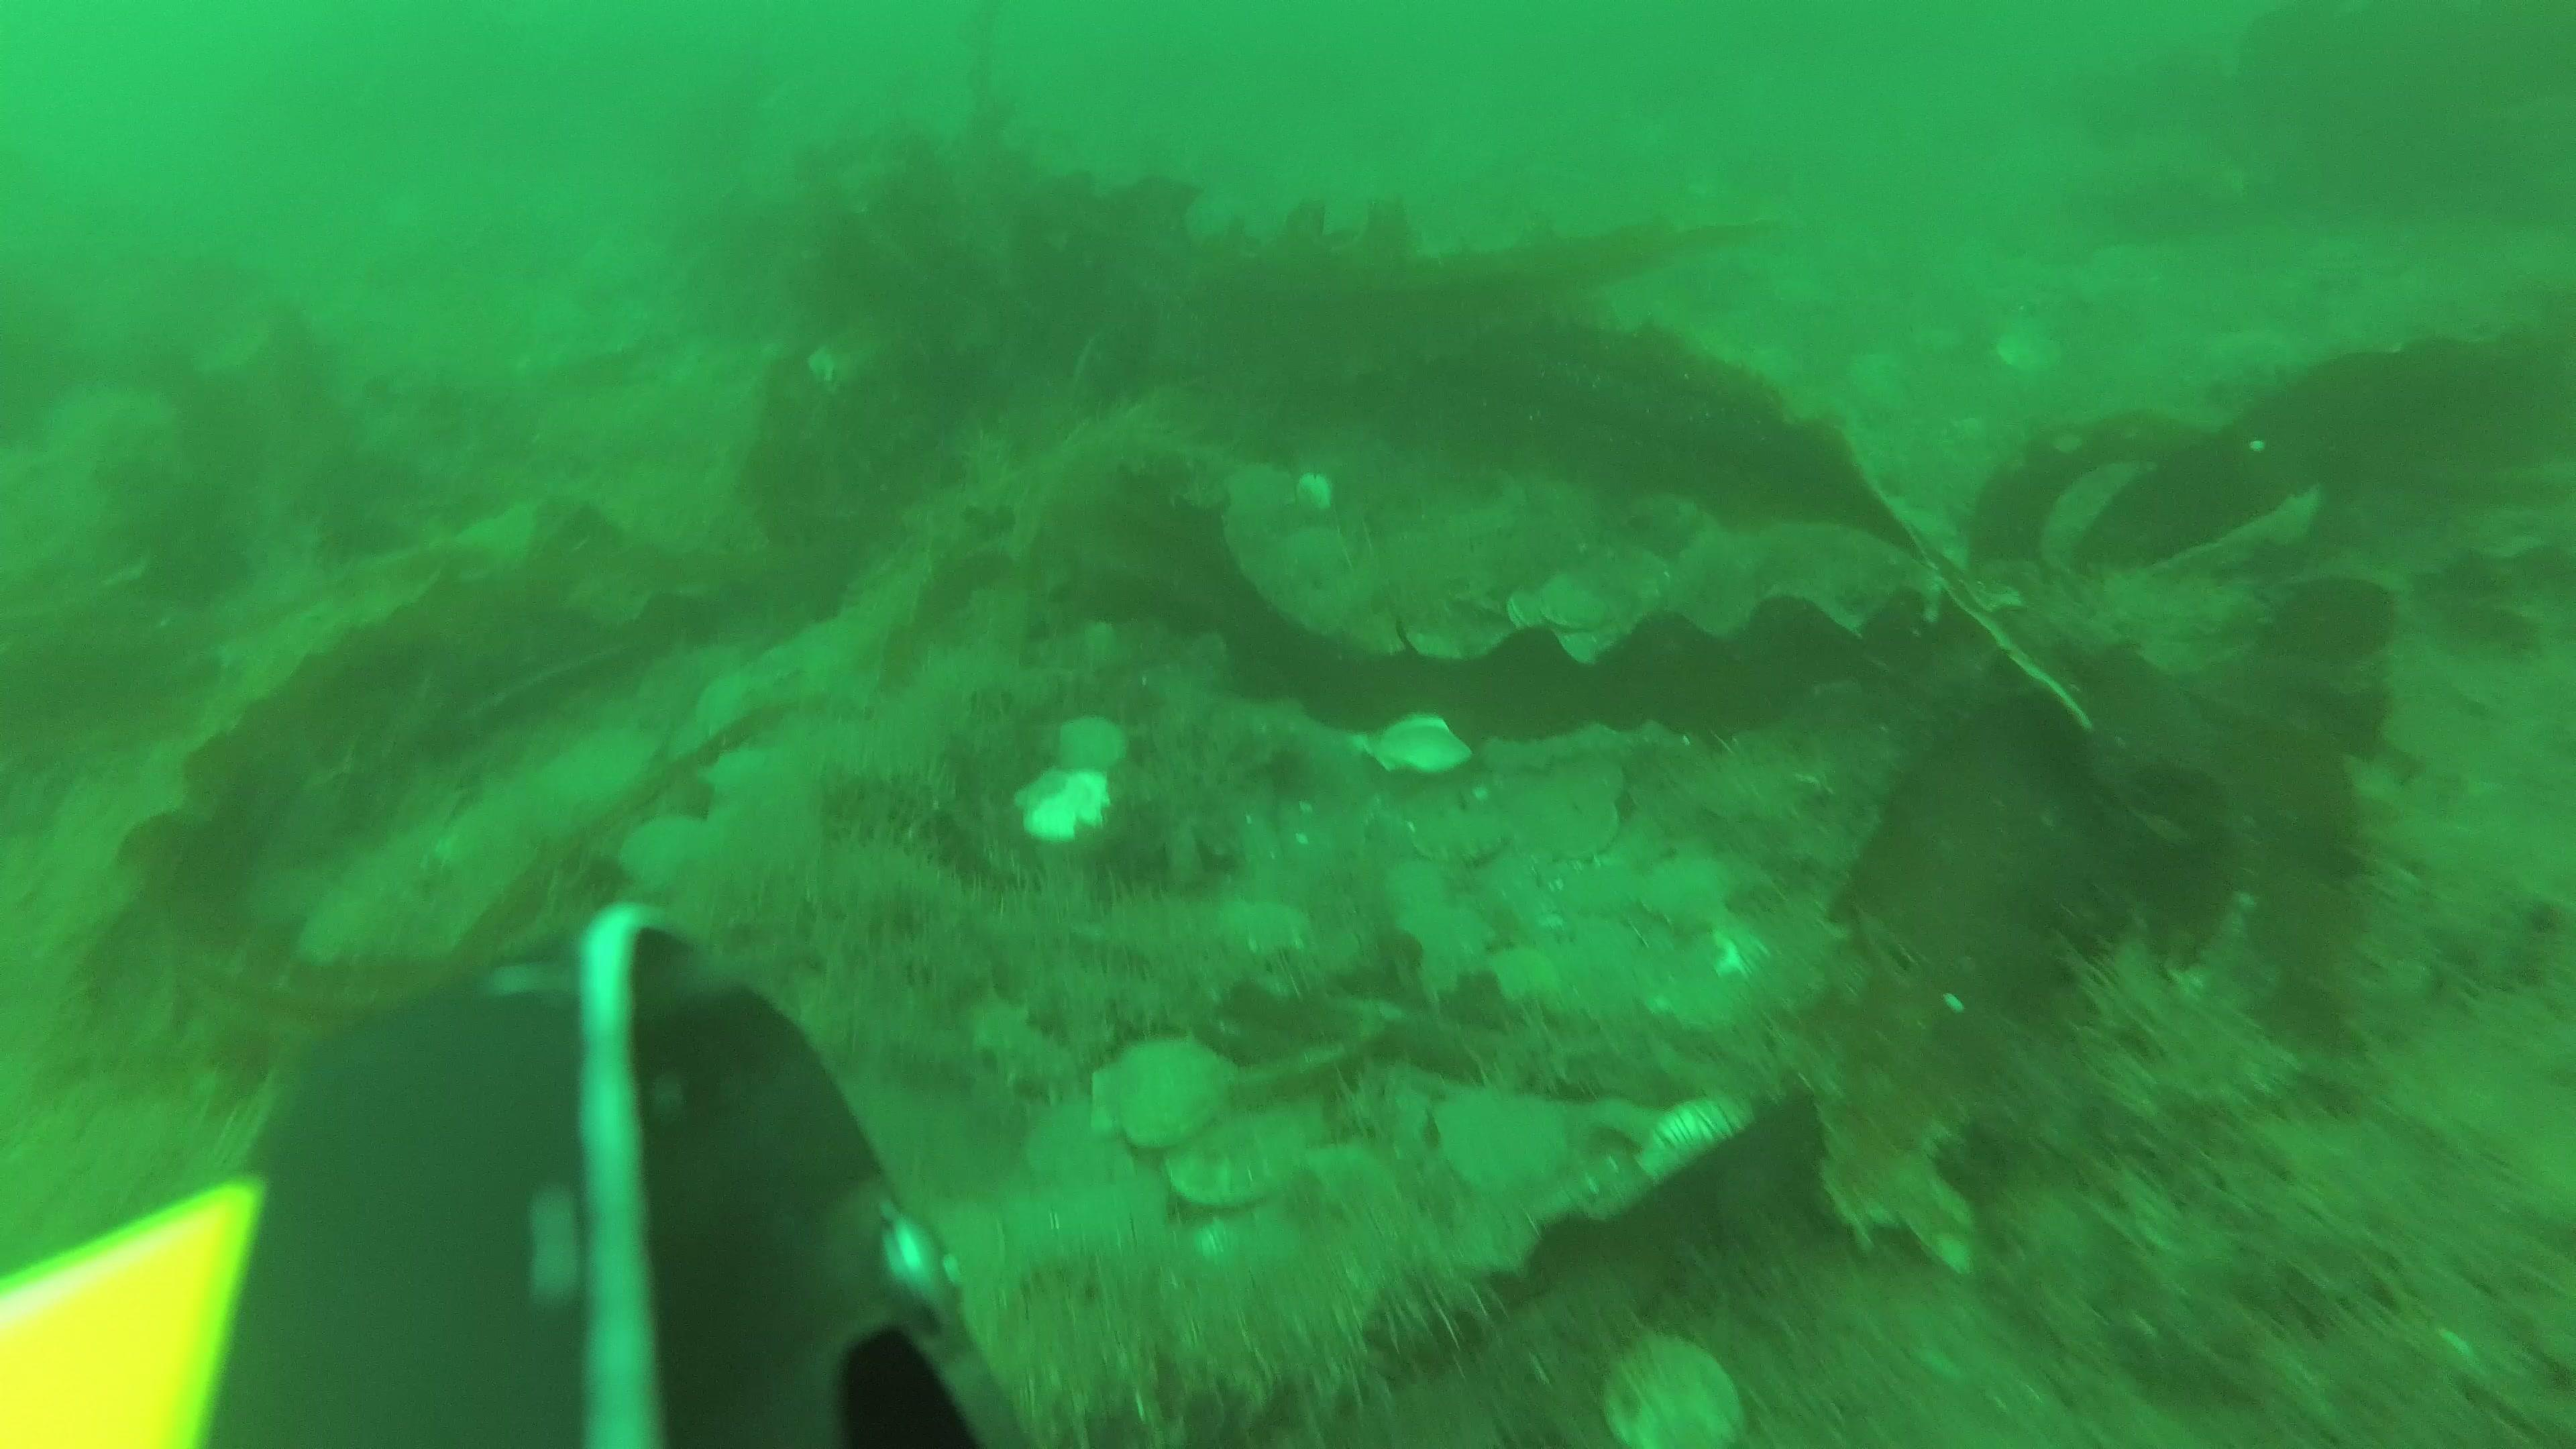holothurian: (950, 984, 1095, 1116)
scallop: (1594, 1330, 1752, 1449), (1157, 1099, 1316, 1214), (1428, 1086, 1576, 1201), (1113, 1035, 1244, 1159), (610, 814, 731, 906), (1355, 697, 1483, 780), (1638, 849, 1744, 936), (1014, 763, 1116, 846), (1408, 805, 1522, 867), (1534, 794, 1626, 865), (1047, 708, 1136, 780), (1532, 571, 1629, 633), (1224, 899, 1315, 957), (1557, 754, 1629, 807), (1992, 329, 2066, 377), (1499, 591, 1546, 640)
starfish: (1392, 897, 1497, 970)
